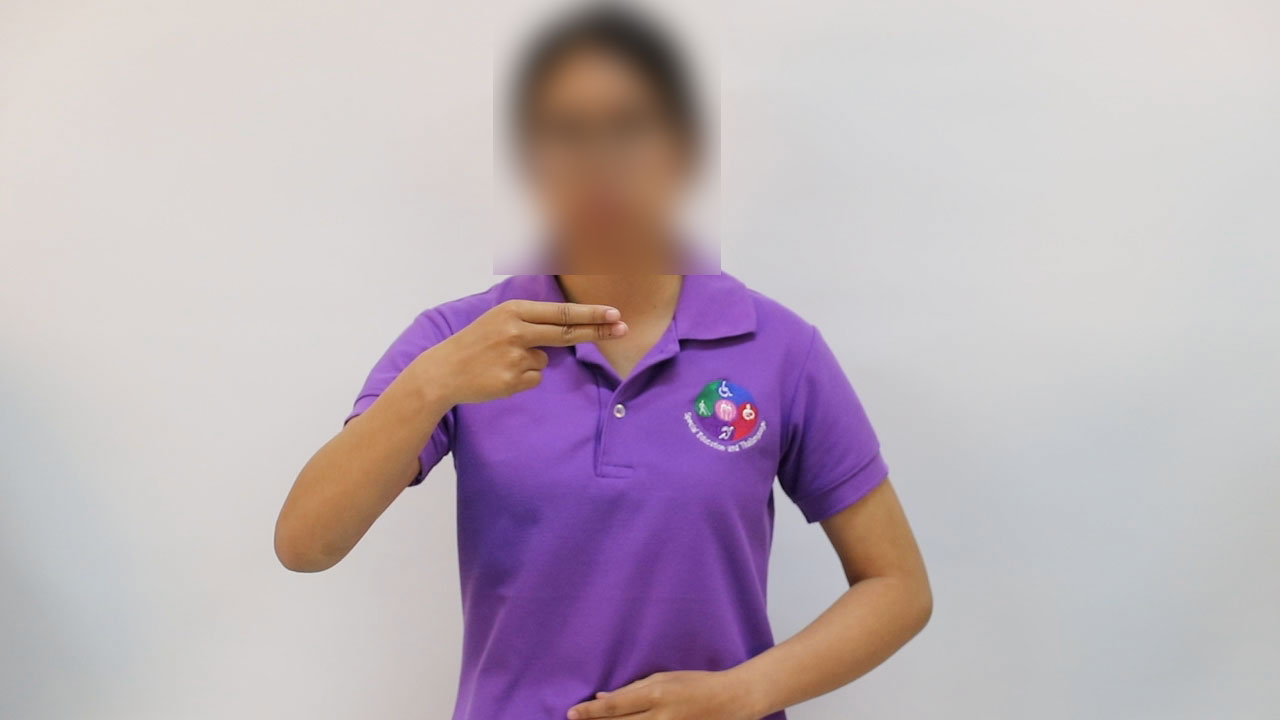hor: (412, 290, 640, 425)
